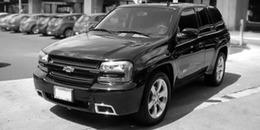car: (30, 1, 234, 127)
